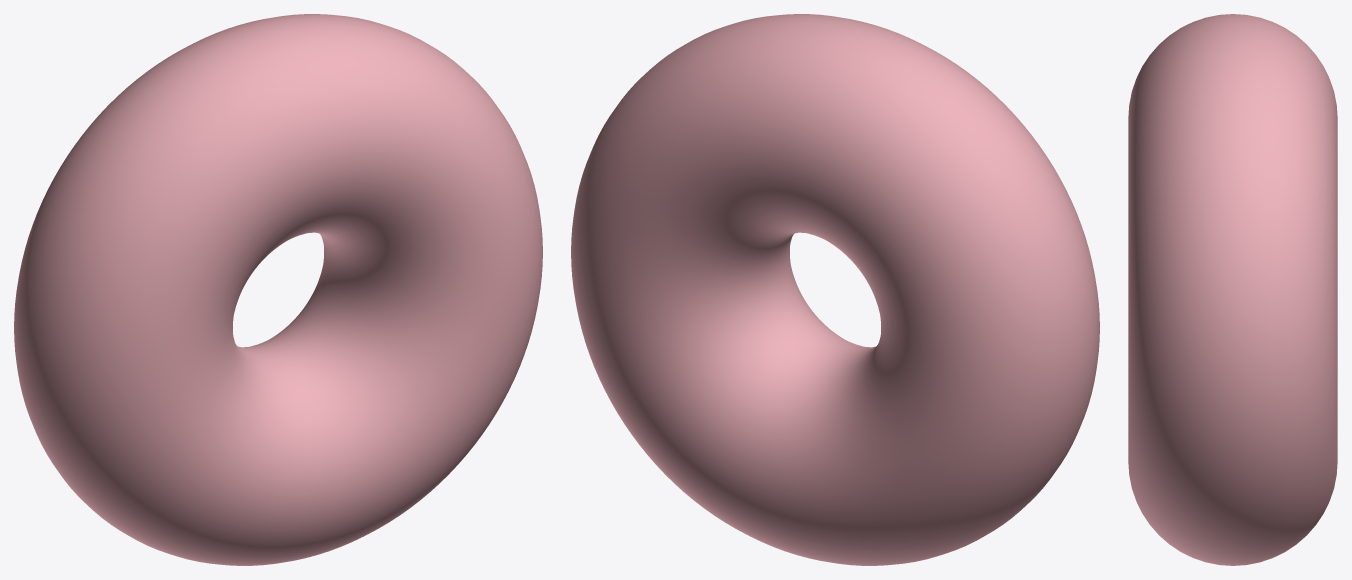
The model's file is squishy-donut.glb.
3 views of the same model, side by side, from view 1: azimuth 30°, elevation 25°; view 2: azimuth 150°, elevation 25°; view 3: azimuth 270°, elevation 25° (orthographic). The views are drawn at different scales.
Parts seen in each view (by area): view 1: Squishy_Surface; view 2: Squishy_Surface; view 3: Squishy_Surface.
Boxes of the visible parts, x1,y1,x2,y2 form: Squishy_Surface: [14, 14, 542, 565]; Squishy_Surface: [571, 14, 1099, 565]; Squishy_Surface: [1128, 14, 1337, 565].
Bounding box in the file's own units: 2.32 × 2.32 × 0.88.
